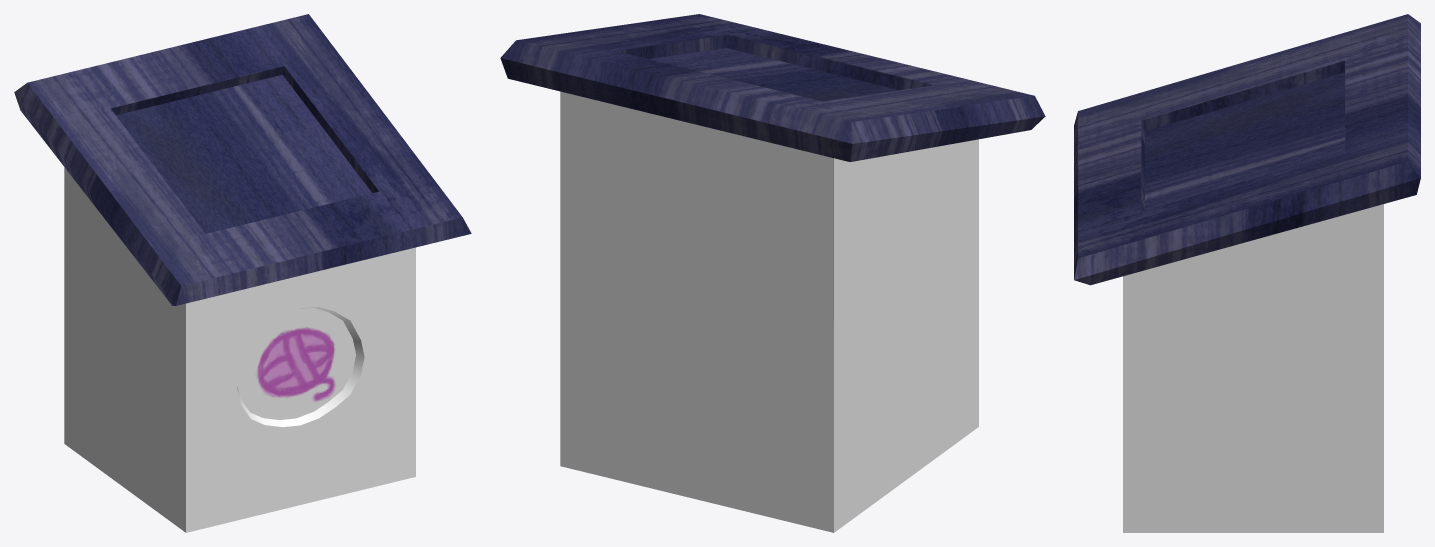
The model's file is Pedestal_Final_1.fbx.
The picture shows the model from 3 angles, left to right: view 1: azimuth 30°, elevation 25°; view 2: azimuth 150°, elevation 25°; view 3: azimuth 270°, elevation 25°; orthographic projection. The views are drawn at different scales.
Visible parts, largest first — view 1: pCube10; view 2: pCube10; view 3: pCube10.
Part boxes in pixels (x1,y1,x2,y2): pCube10: (14, 14, 471, 532); pCube10: (500, 14, 1045, 532); pCube10: (1074, 14, 1420, 532).
Size of the model in its own units: 2.78 by 3.23 by 2.64.
1 material, 1 textured.
